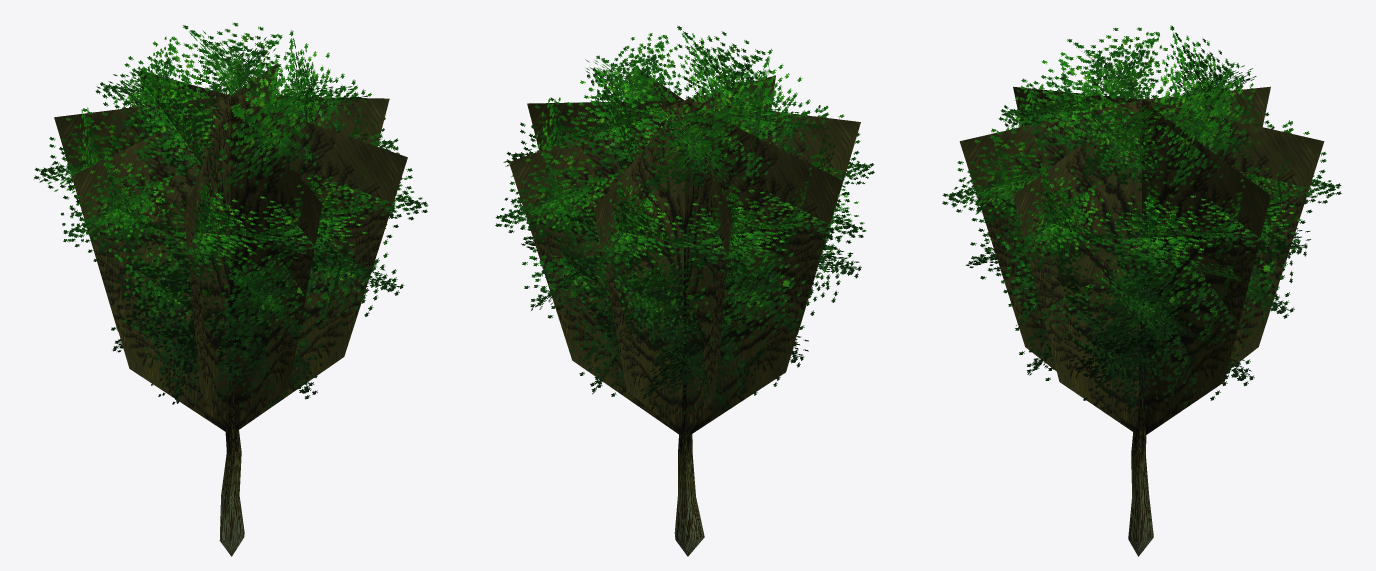
The model's file is zomereik_3.fbx.
The picture shows the model from 3 angles, left to right: view 1: azimuth 30°, elevation 25°; view 2: azimuth 150°, elevation 25°; view 3: azimuth 270°, elevation 25°; orthographic projection.
Parts seen in each view (by area): view 1: zomereik_3; view 2: zomereik_3; view 3: zomereik_3.
Boxes of the visible parts, x1,y1,x2,y2 form: zomereik_3: [33, 23, 428, 556]; zomereik_3: [495, 25, 874, 556]; zomereik_3: [942, 25, 1341, 556].
Size of the model in its own units: 1727 by 2173 by 1727.
